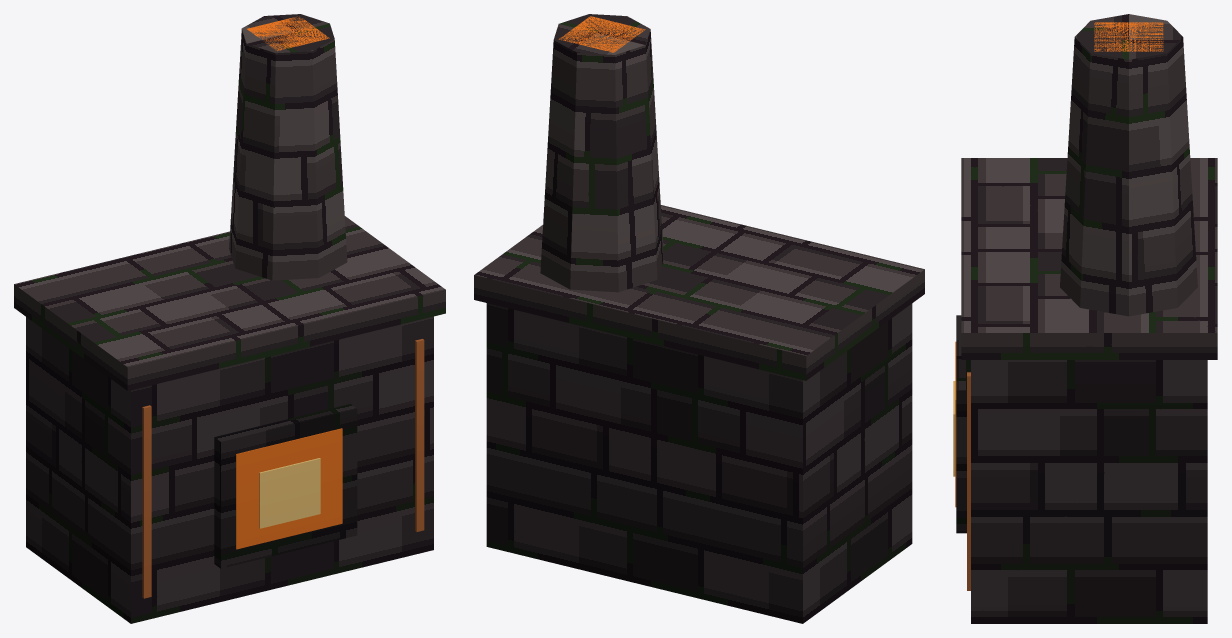
File: furnace.glb
The picture shows the model from 3 angles, left to right: view 1: azimuth 30°, elevation 25°; view 2: azimuth 150°, elevation 25°; view 3: azimuth 270°, elevation 25°; orthographic projection. The views are drawn at different scales.
Parts seen in each view (by area): view 1: furnace; view 2: furnace; view 3: furnace.
Boxes of the visible parts, bbox=[...] form: furnace: bbox=[14, 14, 445, 623]; furnace: bbox=[474, 14, 924, 623]; furnace: bbox=[953, 14, 1217, 623].
Bounding box in the file's own units: 4.2 × 6.1 × 2.68.
3 materials, 1 textured.
